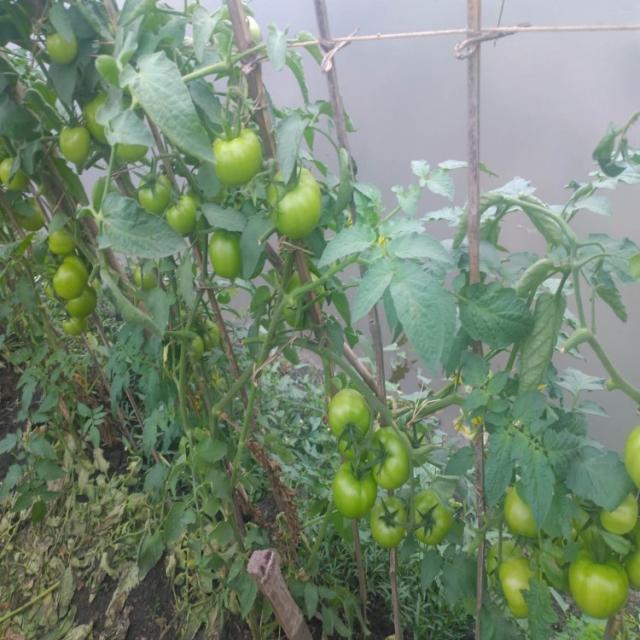tomato: (267, 168, 325, 240), (203, 126, 260, 192), (283, 268, 339, 332), (573, 551, 627, 617), (487, 548, 535, 614), (47, 260, 99, 310), (373, 432, 416, 490), (213, 226, 251, 278), (327, 389, 369, 435), (413, 491, 452, 539), (601, 497, 640, 541), (338, 459, 368, 516), (506, 489, 540, 537), (46, 35, 82, 74), (377, 499, 408, 543), (619, 428, 640, 488), (139, 169, 169, 209), (63, 121, 91, 161), (1, 156, 26, 191), (171, 203, 202, 231), (198, 318, 226, 348), (91, 95, 107, 140), (65, 315, 94, 337), (116, 144, 155, 160), (242, 16, 262, 44), (50, 228, 74, 251), (135, 270, 159, 293), (631, 548, 640, 587), (182, 332, 195, 358)
